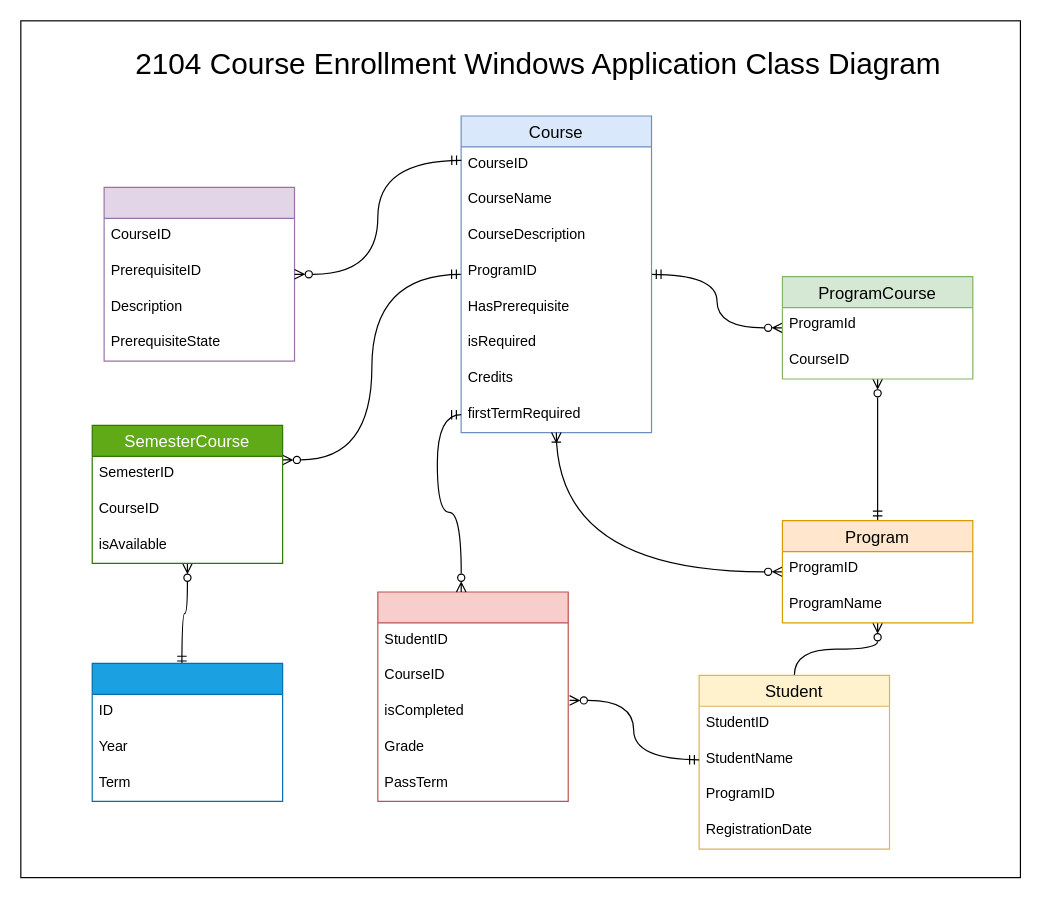
Image size: 1041x898. Some labels were removed from this diagram. The box of each missing label's shape, as (x1, y1, x2, y2) in pixels:
CoursePrerequisite: (103, 186, 295, 361)
Semester: (91, 662, 283, 801)
StudentCourse: (377, 591, 568, 801)
